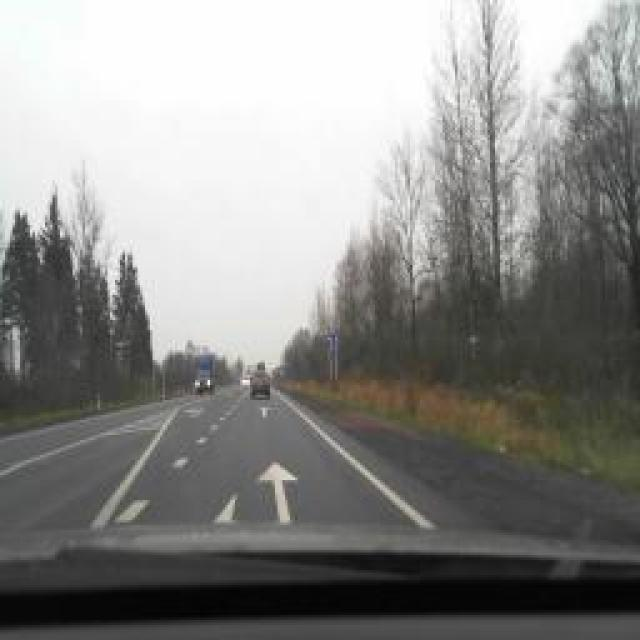sign: (328, 334, 340, 348)
